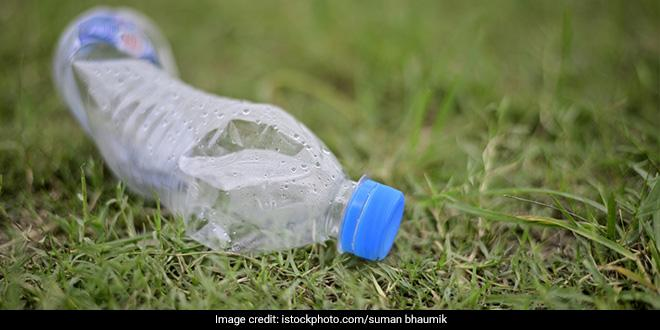bottle: (35, 0, 431, 261)
